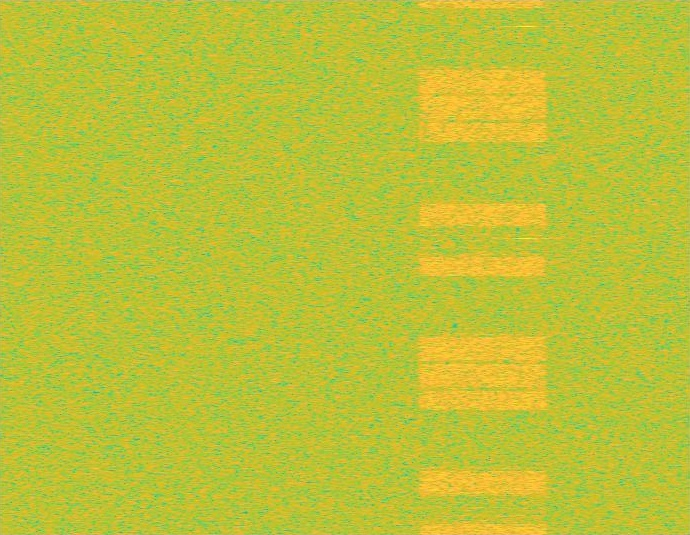LTE: (414, 0, 552, 534)
Radar: (519, 0, 533, 534)
